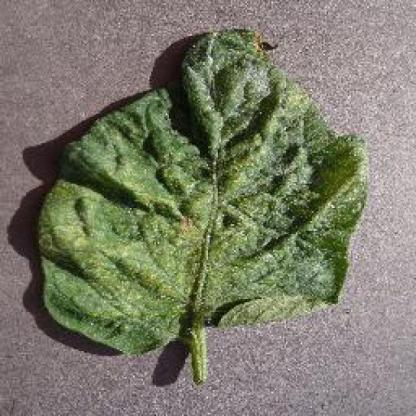Tomato_Spider_Mites: (39, 31, 368, 350)
